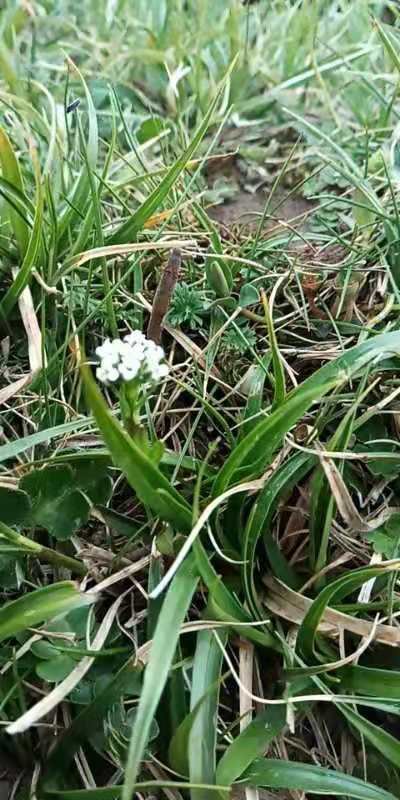Chongcao: (146, 248, 182, 344)
